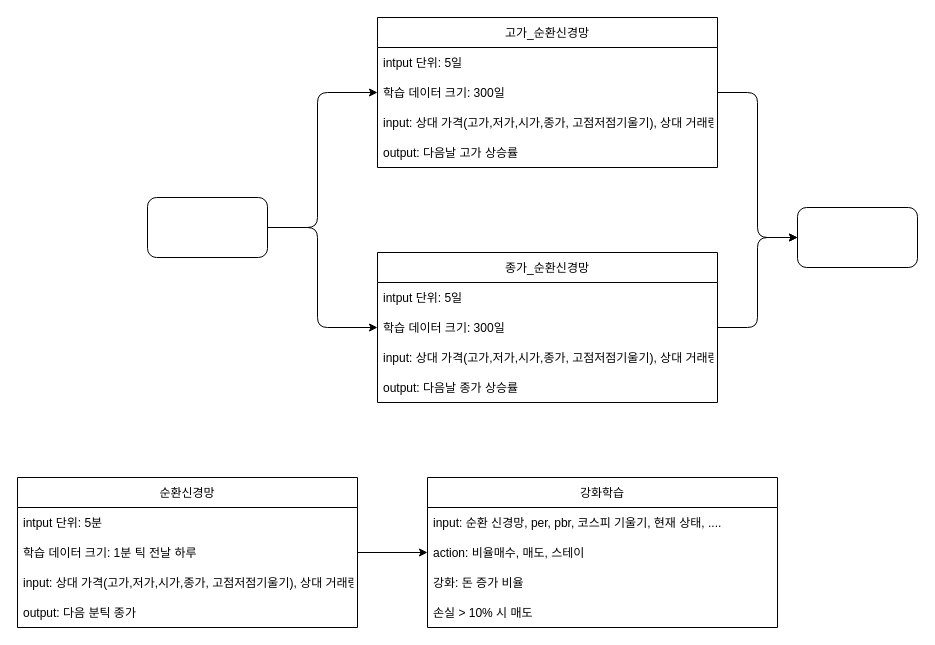
This 935x645 diagram has some shape labels left out. Here are the shapes that lost their labels. From the top down, the centre of each, then its label:
point 207,227: 300일 저점 1000원이상, 데이터 300개 이상, 최소 거래대금 10억이상
point 857,237: 둘다 5%이상, 상위 5개
